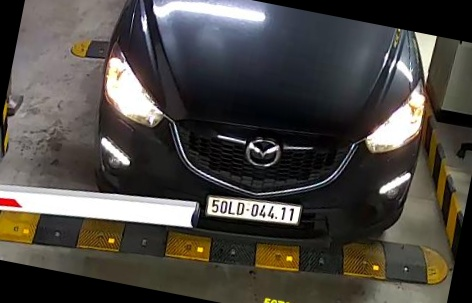plate: (198, 189, 304, 236)
